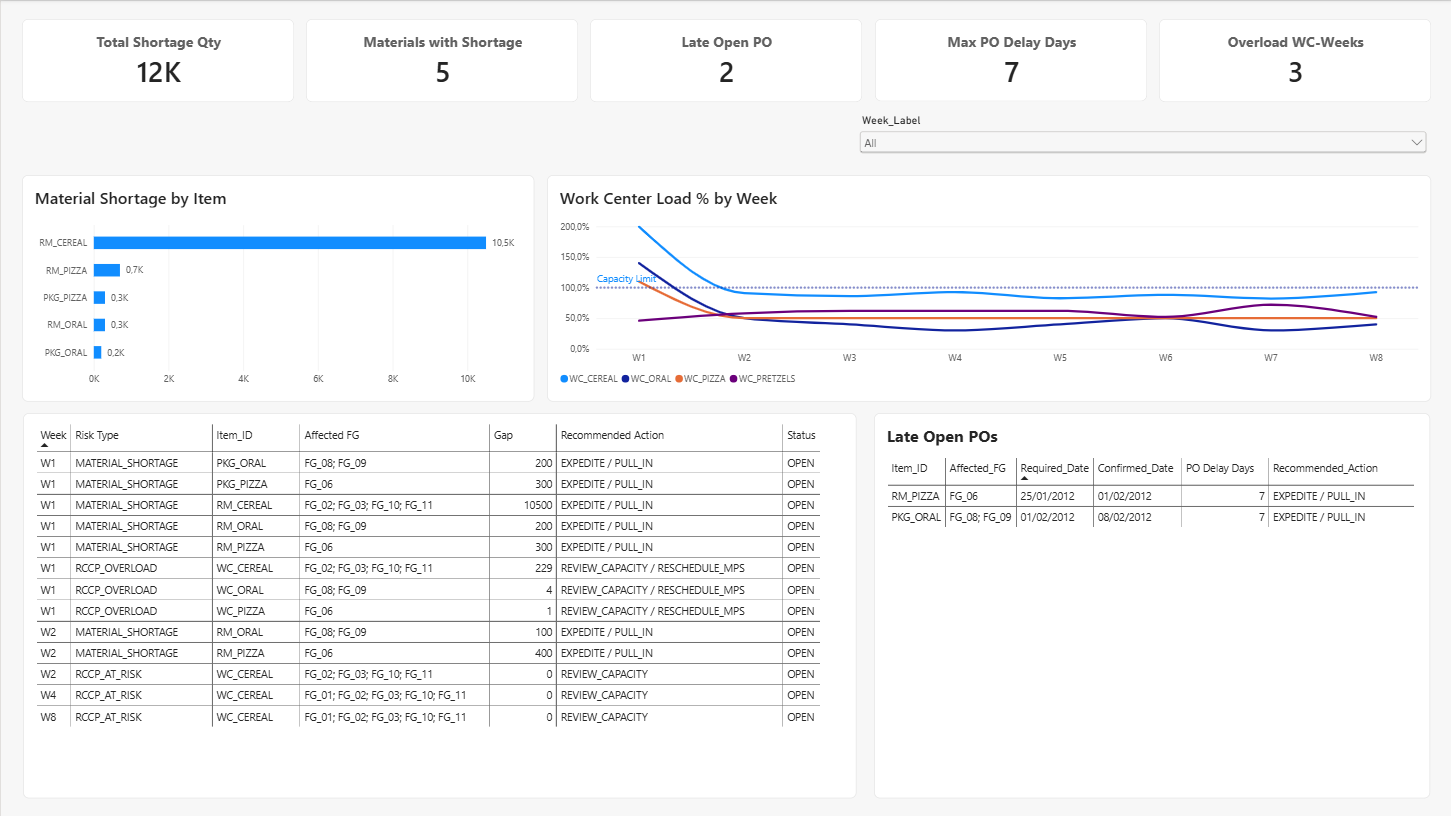

The dashboard page shown, as its layout file describes it:
{"tool":"powerbi","page":{"name":"Supply Risk","canvas":[1920,1080],"ordinal":2},"visuals":[{"type":"slicer","fields":{"Values":["Dim_Week.Week_Label"]},"box":[1132,150,760,64],"z":0},{"type":"clusteredBarChart","title":"Material Shortage by Item","fields":{"Category":["Dim_Material.Material_ID"],"Y":["Measure Table (DAX).Total Shortage Qty"]},"box":[28,230,678,300],"z":1000},{"type":"lineChart","title":"Work Center Load % by Week","fields":{"Category":["Dim_Week.Week_Label"],"Y":["Measure Table (DAX).Load Pct"],"Series":["Fact_RCCP.Work_Center_ID"]},"box":[722,230,1170,300],"z":2000},{"type":"tableEx","title":"Late Open POs","fields":{"Values":["Fact_Exceptions.Item_ID","Fact_Exceptions.Affected_FG","Fact_Exceptions.Required_Date","Fact_Exceptions.Confirmed_Date.Variation.Date Hierarchy.Year","Measure Table (DAX).PO Delay Days","Fact_Exceptions.Recommended_Action"]},"box":[1155.7,545.7,735.7,510],"z":3000},{"type":"tableEx","fields":{"Values":["Dim_Week.Week_Label","Fact_Exceptions.Exception_Type","Fact_Exceptions.Item_ID","Fact_Exceptions.Affected_FG","Sum(Fact_Exceptions.Gap_Qty_or_Hours)","Fact_Exceptions.Recommended_Action","Fact_Exceptions.Resolution_Status"]},"box":[28.6,545.7,1102.9,510],"z":4000},{"type":"cardVisual","fields":{"Data":["Measure Table (DAX).Total Shortage Qty"]},"box":[28,24,360,110],"z":5000},{"type":"cardVisual","fields":{"Data":["Measure Table (DAX).Materials with Shortage"]},"box":[404,24,360,110],"z":6000},{"type":"cardVisual","fields":{"Data":["Measure Table (DAX).Late Open PO"]},"box":[780,24,360,110.7],"z":7000},{"type":"cardVisual","fields":{"Data":["Measure Table (DAX).Max PO Delay Days"]},"box":[1156,24,360,109.3],"z":8000},{"type":"cardVisual","fields":{"Data":["Measure Table (DAX).Overload WC-Weeks"]},"box":[1532,24,360,110.7],"z":9000}]}

Visuals, with their boxes in screenshot pixels (x1, y1, x2, y2), scaled from the page's 1920x1080 canvas onto the 1451x816 screenshot:
slicer - Dim_Week.Week_Label: <region>855, 113, 1430, 162</region>
"Material Shortage by Item" clusteredBarChart: <region>21, 174, 534, 400</region>
"Work Center Load % by Week" lineChart: <region>546, 174, 1430, 400</region>
"Late Open POs" tableEx: <region>873, 412, 1429, 798</region>
tableEx - Dim_Week.Week_Label x Fact_Exceptions.Exception_Type: <region>22, 412, 855, 798</region>
cardVisual - Measure Table (DAX).Total Shortage Qty: <region>21, 18, 293, 101</region>
cardVisual - Measure Table (DAX).Materials with Shortage: <region>305, 18, 577, 101</region>
cardVisual - Measure Table (DAX).Late Open PO: <region>589, 18, 862, 102</region>
cardVisual - Measure Table (DAX).Max PO Delay Days: <region>874, 18, 1146, 101</region>
cardVisual - Measure Table (DAX).Overload WC-Weeks: <region>1158, 18, 1430, 102</region>
